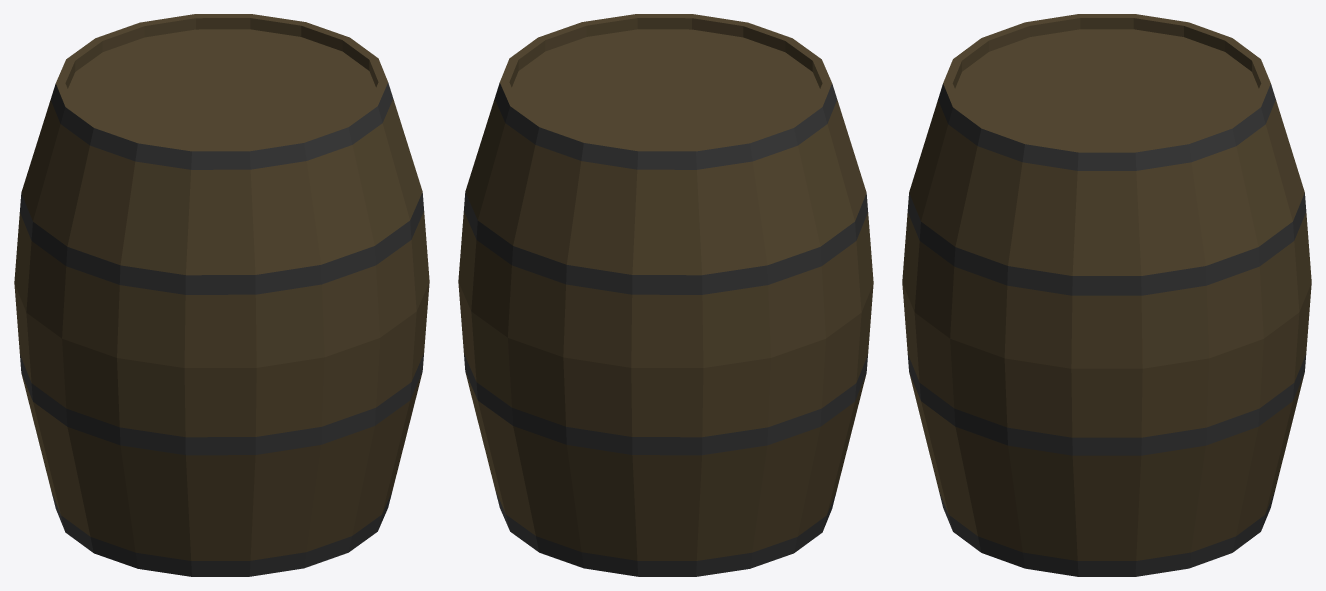
File: Barrel.fbx
3 views of the same model, side by side, from view 1: azimuth 30°, elevation 25°; view 2: azimuth 150°, elevation 25°; view 3: azimuth 270°, elevation 25° (orthographic).
Visible parts, largest first — view 1: Cylinder.005; view 2: Cylinder.005; view 3: Cylinder.005.
Boxes of the visible parts, x1,y1,x2,y2 form: Cylinder.005: [14, 14, 429, 576]; Cylinder.005: [458, 14, 873, 576]; Cylinder.005: [902, 14, 1311, 576].
Bounding box in the file's own units: 72.43 × 82.83 × 72.43.
